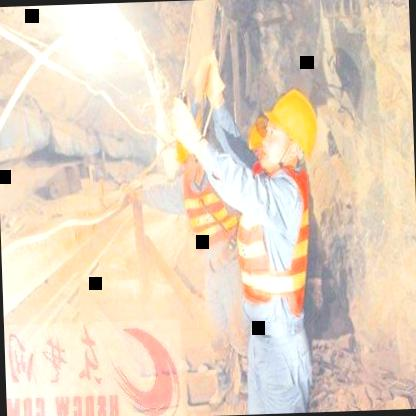helmet: (256, 86, 322, 184)
